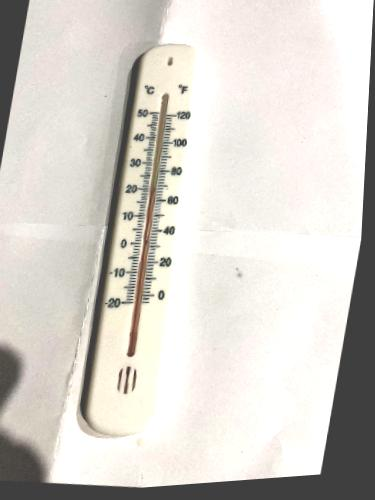thermo: (78, 38, 221, 448)
